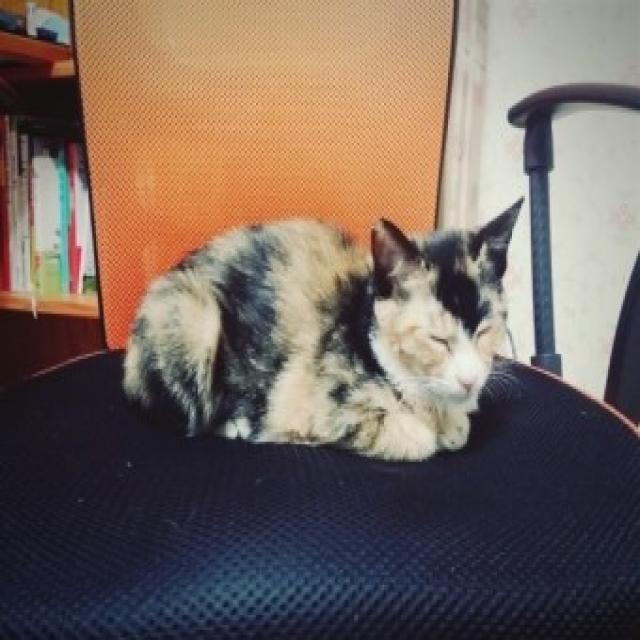cat: (112, 195, 529, 464)
